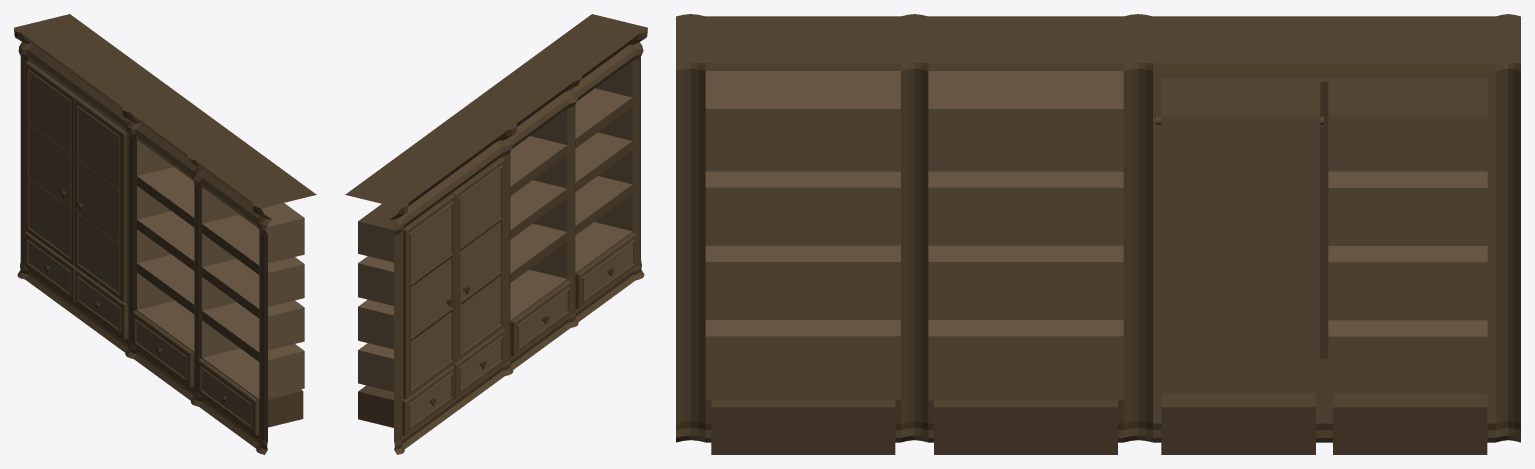
Rendered from Bookcase_closet.fbx.
The picture shows the model from 3 angles, left to right: view 1: azimuth 30°, elevation 25°; view 2: azimuth 150°, elevation 25°; view 3: azimuth 270°, elevation 25°; orthographic projection. The views are drawn at different scales.
Parts seen in each view (by area): view 1: Cube.003, Cube.006, Cube.004, Cube.002, Cube.005, Cube.008, Circle; view 2: Cube.003, Cube.004, Cube.006, Cube.002, Cube.005, Circle, Cube.008; view 3: Cube.003.
Boxes of the visible parts, x1,y1,x2,y2 form: Cube.003: [14, 14, 316, 454]; Cube.006: [75, 97, 127, 302]; Cube.004: [26, 61, 77, 266]; Cube.002: [198, 358, 258, 435]; Cube.005: [133, 311, 193, 387]; Cube.008: [75, 268, 127, 339]; Circle: [25, 232, 76, 302]; Cube.003: [345, 14, 647, 454]; Cube.004: [402, 194, 454, 399]; Cube.006: [452, 158, 503, 363]; Cube.002: [575, 232, 636, 308]; Cube.005: [510, 280, 570, 356]; Circle: [402, 365, 454, 435]; Cube.008: [453, 328, 504, 399]; Cube.003: [676, 14, 1520, 454].
Bounding box in the file's own units: 68.49 × 275 × 498.
